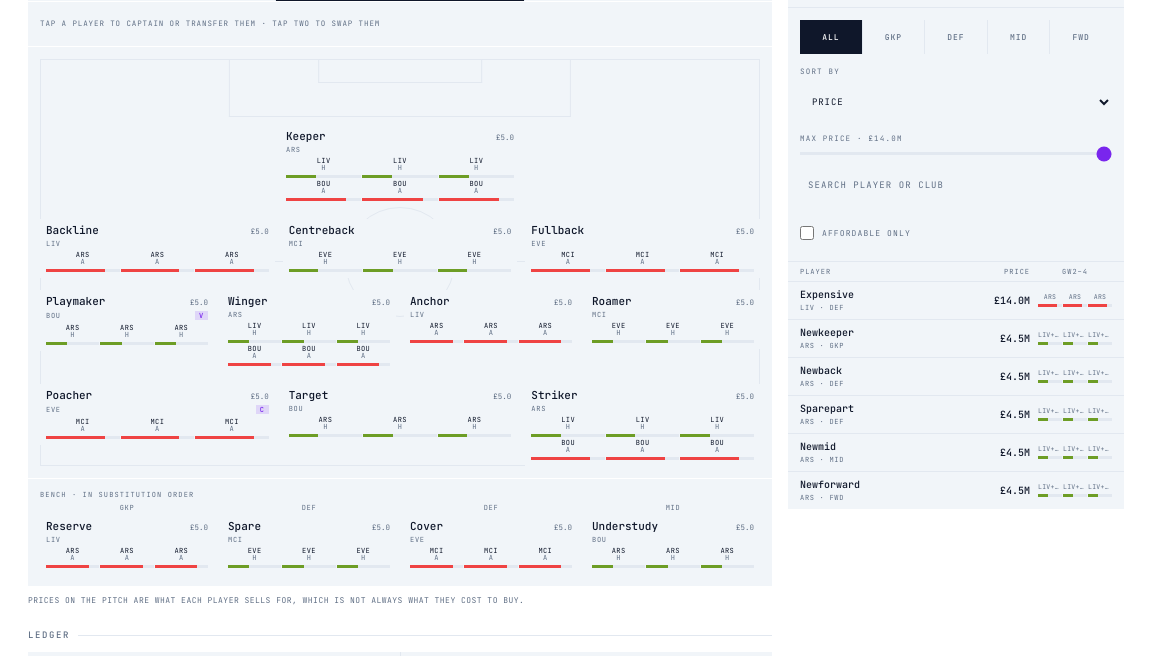
Test: selection and swapping › deselects when the same player is tapped twice
(page scrolled)
Check: the button "Keeper £5.0 ARS LIV H BOU A LIV H BOU A LIV H BOU A" is shown, box 280,125 -> 520,207
Click the button "Winger £5.0 ARS LIV H BOU A LIV H BOU A LIV H BOU A" at (309, 331), box 222,290 -> 396,372
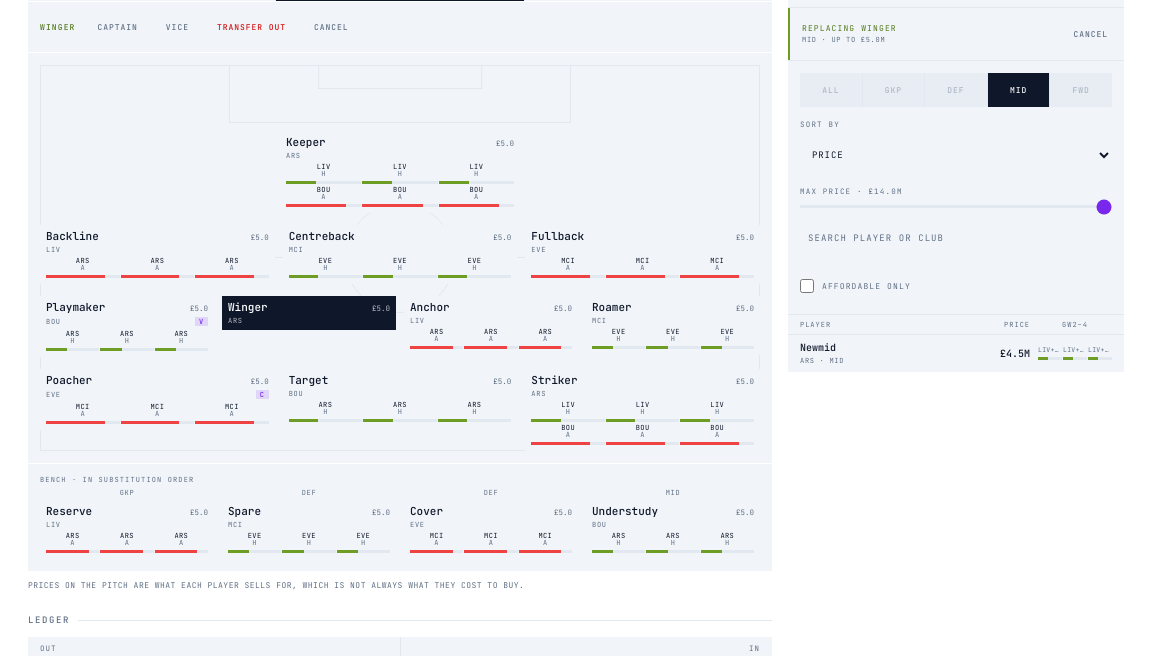
Check: the 1st button "CANCEL" is shown, box 304,8 -> 359,46
Click the button "Winger £5.0 ARS" at (309, 313), box 222,296 -> 396,330
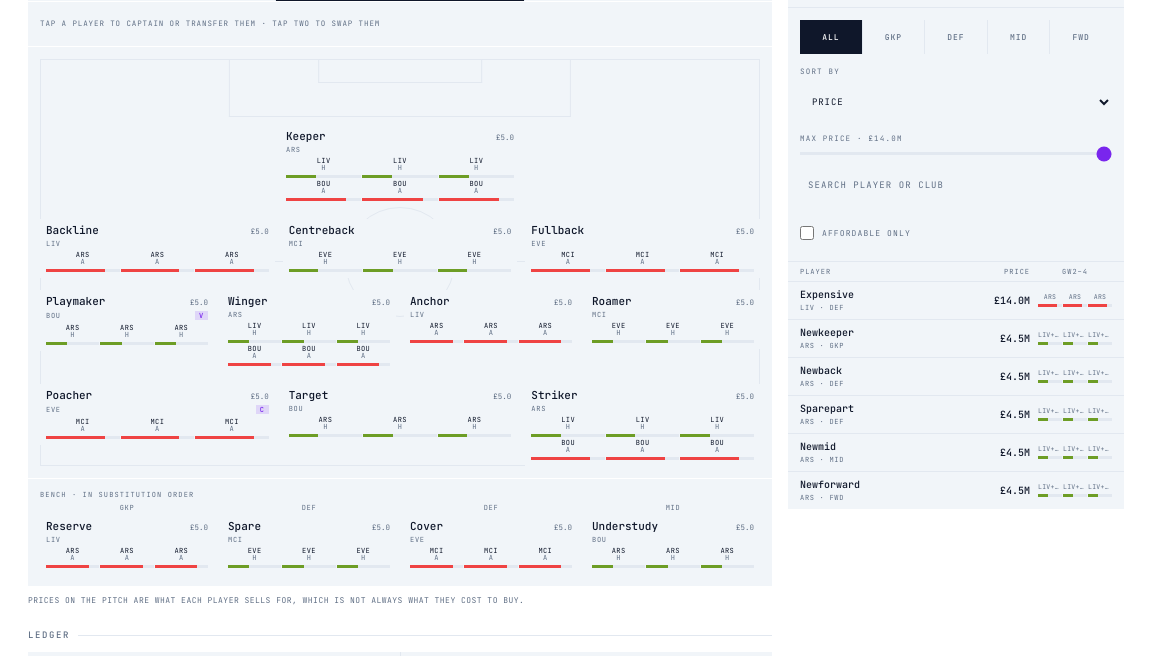
Check: the button "CANCEL" is gone
